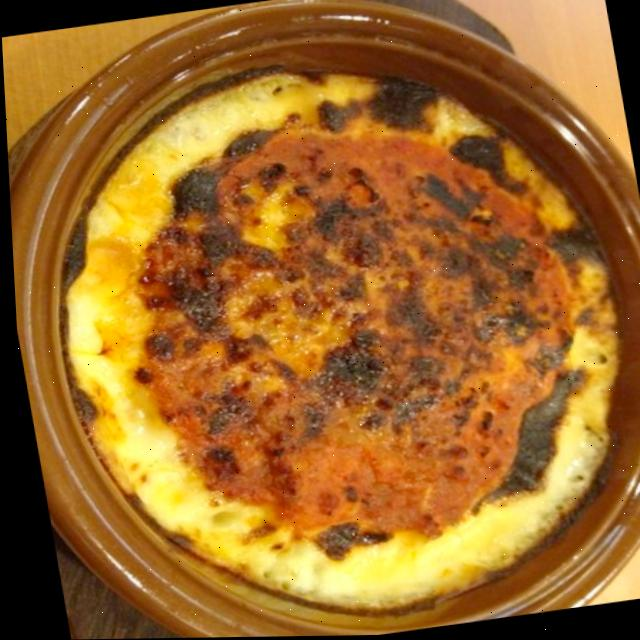米饭主食: (1, 9, 640, 640)
